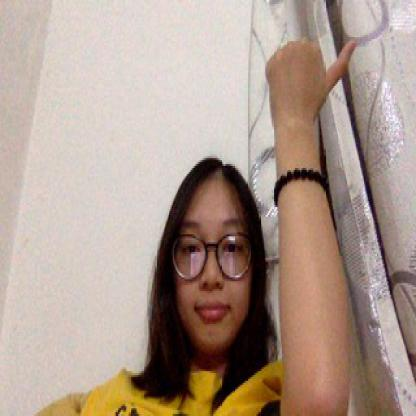left: (262, 31, 358, 123)
